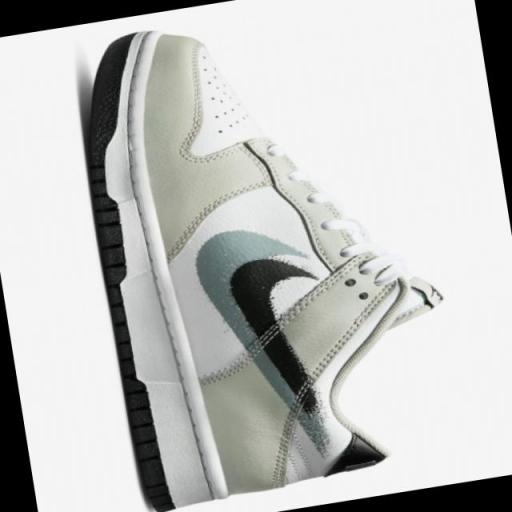Nike: (220, 246, 342, 448)
